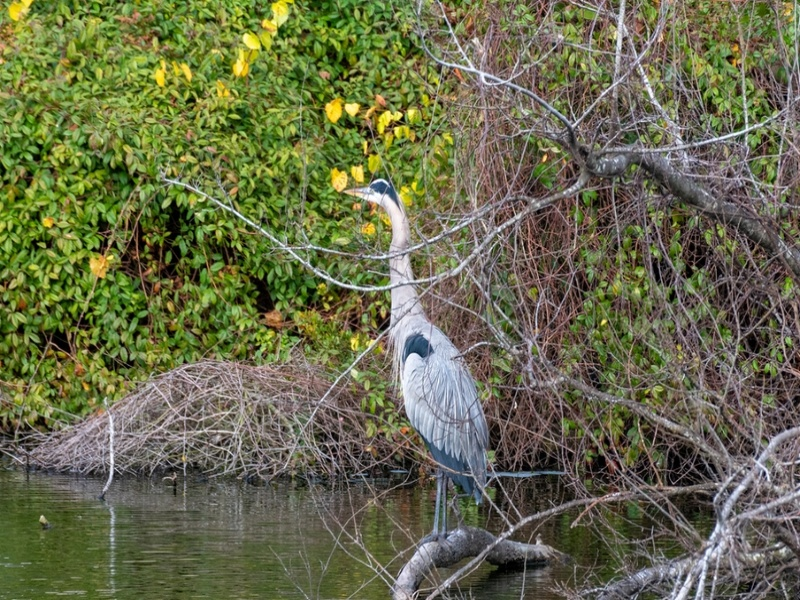heron: (334, 176, 490, 536)
